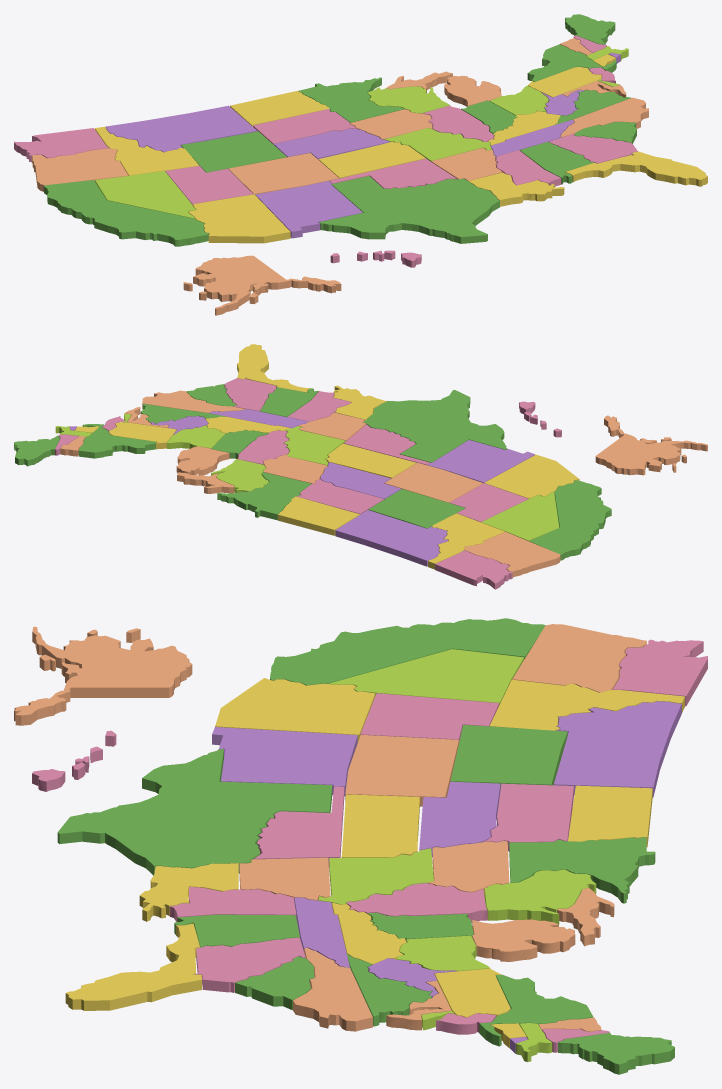
3 views of the same model, one above another, from view 1: azimuth 30°, elevation 25°; view 2: azimuth 150°, elevation 25°; view 3: azimuth 270°, elevation 25° (orthographic). The views are drawn at different scales.
Visible parts, largest first — view 1: Texas, California, Alaska, Montana, Arizona, New Mexico, Nevada, Colorado, Oregon, Wyoming, Florida, Minnesota (+31 smaller); view 2: Texas, California, Montana, Alaska, New Mexico, Arizona, Oregon, Nevada, Colorado, Minnesota, Wyoming, North dakota (+31 smaller); view 3: Texas, California, Alaska, Montana, New Mexico, Arizona, Nevada, Colorado, Wyoming, Oregon, Minnesota, Idaho (+34 smaller).
Boxes of the visible parts, x1=… form: Texas: x1=318, y1=176, x2=499, y2=243; California: x1=44, y1=180, x2=209, y2=246; Alaska: x1=183, y1=255, x2=341, y2=315; Montana: x1=105, y1=105, x2=257, y2=152; Arizona: x1=189, y1=194, x2=290, y2=243; New Mexico: x1=255, y1=181, x2=362, y2=238; Nevada: x1=95, y1=171, x2=195, y2=218; Colorado: x1=228, y1=153, x2=339, y2=194; Oregon: x1=32, y1=148, x2=128, y2=191; Wyoming: x1=181, y1=131, x2=286, y2=172; Florida: x1=565, y1=151, x2=707, y2=186; Minnesota: x1=298, y1=77, x2=404, y2=122; Texas: x1=363, y1=390, x2=507, y2=462; California: x1=529, y1=480, x2=611, y2=560; Montana: x1=335, y1=510, x2=448, y2=566; Alaska: x1=595, y1=415, x2=707, y2=475; New Mexico: x1=427, y1=440, x2=535, y2=482; Arizona: x1=484, y1=454, x2=579, y2=498; Oregon: x1=464, y1=532, x2=560, y2=577; Nevada: x1=481, y1=491, x2=559, y2=541; Colorado: x1=384, y1=462, x2=483, y2=502; Minnesota: x1=217, y1=472, x2=311, y2=520; Wyoming: x1=368, y1=489, x2=465, y2=528; North dakota: x1=277, y1=496, x2=359, y2=535; Texas: x1=57, y1=749, x2=332, y2=875; California: x1=270, y1=618, x2=545, y2=685; Alaska: x1=14, y1=626, x2=192, y2=725; Montana: x1=553, y1=701, x2=681, y2=797; New Mexico: x1=212, y1=727, x2=357, y2=796; Arizona: x1=215, y1=678, x2=375, y2=742; Nevada: x1=329, y1=649, x2=524, y2=705; Colorado: x1=345, y1=734, x2=458, y2=806; Wyoming: x1=450, y1=724, x2=567, y2=787; Oregon: x1=512, y1=624, x2=646, y2=692; Minnesota: x1=509, y1=837, x2=655, y2=903; Idaho: x1=489, y1=679, x2=684, y2=730.
Bounding box in the file's own units: 9.31 × 0.1001 × 6.12.
